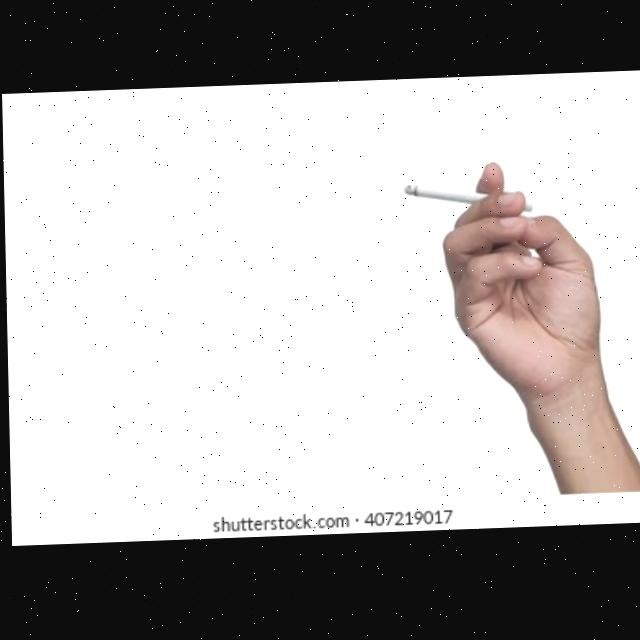cigarette: (401, 185, 533, 220)
